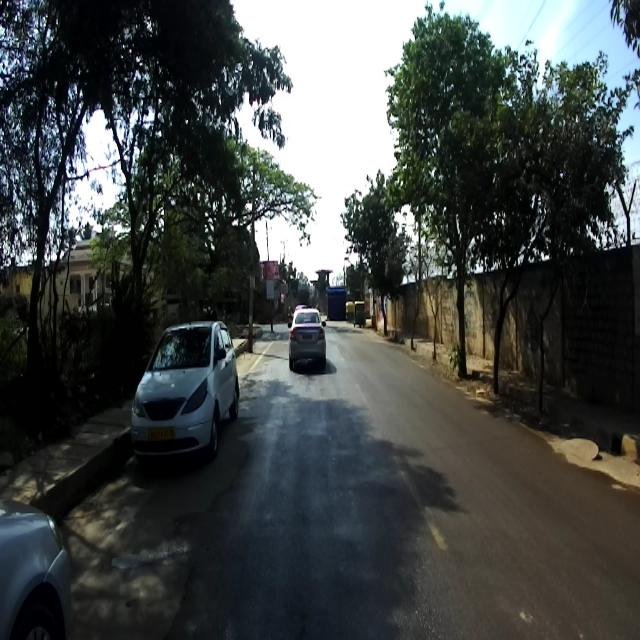Car_Maruti-Suzuki: (288, 305, 327, 369)
Car_TATA: (130, 319, 240, 469)
